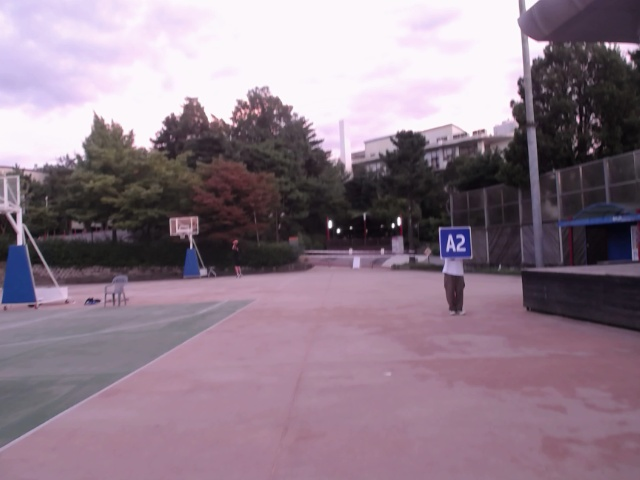delivery_a2: (439, 227, 472, 258)
